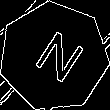N_SW: (24, 24, 84, 89)
